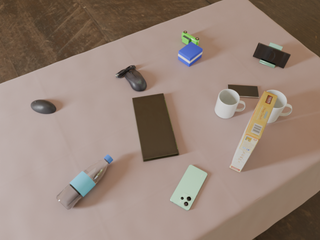book: (132, 93, 179, 161)
bottle: (56, 155, 113, 210)
box: (230, 91, 278, 172), (178, 42, 202, 67)
cup: (215, 89, 245, 118), (267, 90, 292, 123)
mouse: (116, 65, 147, 91), (31, 100, 56, 114)
phone: (170, 165, 207, 210), (253, 43, 291, 68), (228, 85, 259, 98)
toy_car: (182, 31, 199, 45)
